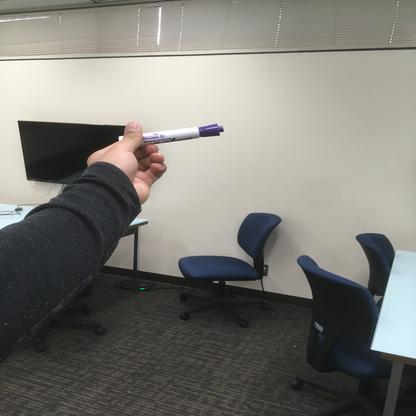expo_marker: (115, 122, 228, 149)
